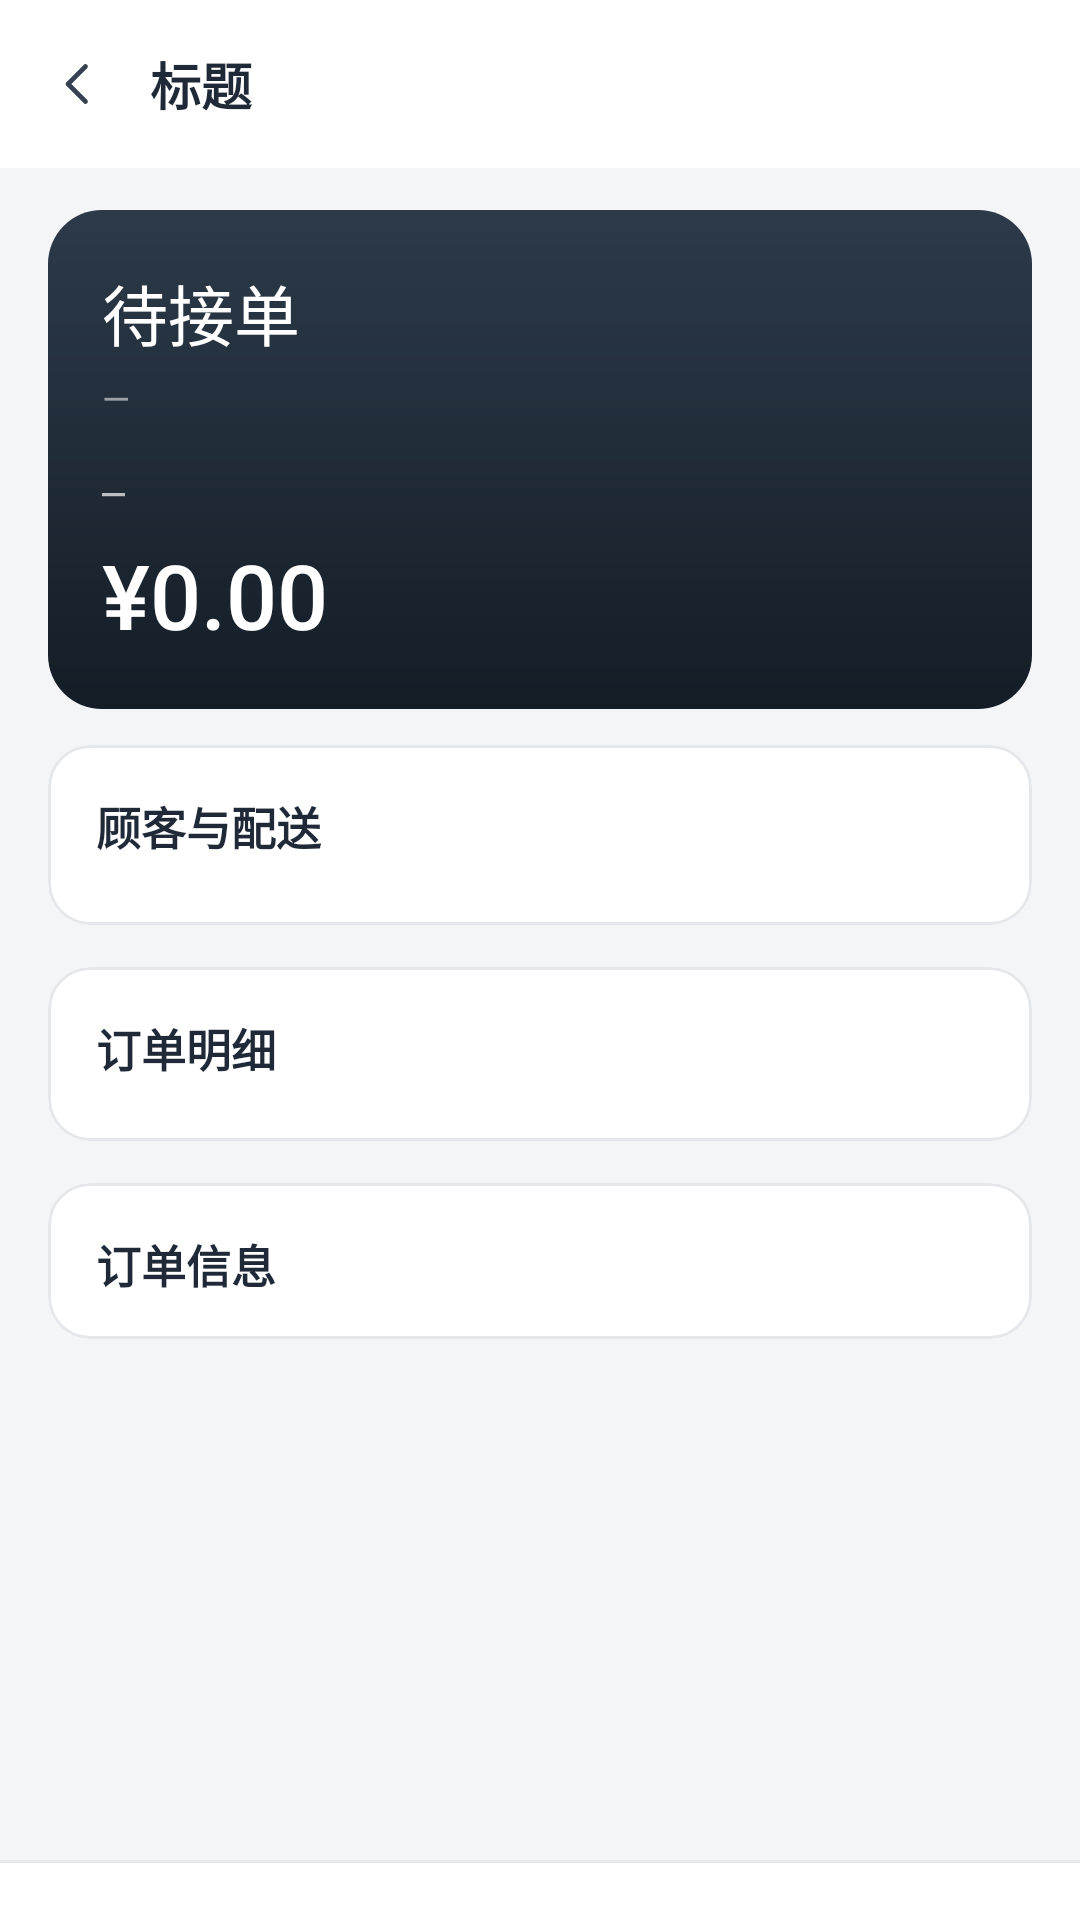

Screen size 1080*1920. Icon name, then its box in pixels as (x1, y1, x2, y2):
返回: (65, 64, 88, 104)
